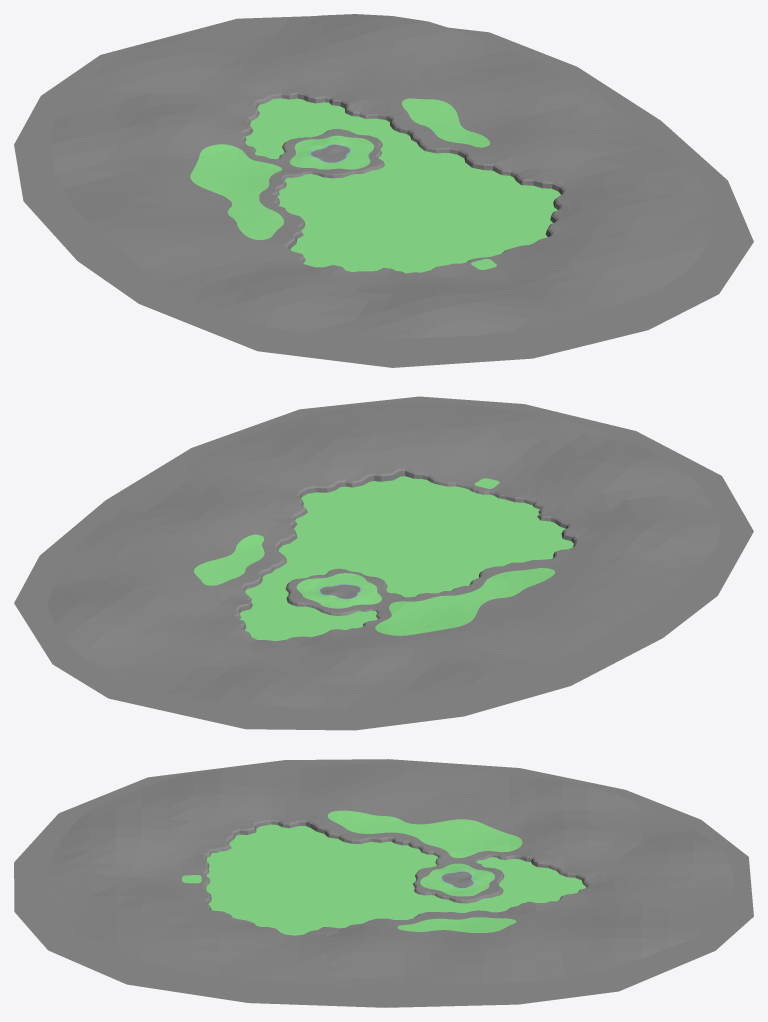
The model's file is glf_course_fc11.glb.
3 renders of one model, top to bottom at view 1: azimuth 30°, elevation 25°; view 2: azimuth 150°, elevation 25°; view 3: azimuth 270°, elevation 25°, orthographic. The views are drawn at different scales.
Visible parts, largest first — view 1: collision_0x0004, collision_0x0005, collision_0x0002, collision_0x0007, collision_0x0001, collision_0x000c; view 2: collision_0x0004, collision_0x0002, collision_0x0005, collision_0x0007, collision_0x0001, collision_0x000c; view 3: collision_0x0004, collision_0x0005, collision_0x0002, collision_0x0007, collision_0x0001, collision_0x000c.
Part boxes in pixels (box(x1,y1,x2,y2)): collision_0x0004: box(51, 14, 714, 338); collision_0x0005: box(14, 16, 753, 367); collision_0x0002: box(158, 64, 607, 289); collision_0x0007: box(245, 98, 560, 273); collision_0x0001: box(190, 98, 496, 269); collision_0x000c: box(241, 92, 565, 273); collision_0x0004: box(48, 403, 720, 709); collision_0x0002: box(150, 445, 617, 659); collision_0x0005: box(14, 396, 753, 730); collision_0x0007: box(239, 476, 573, 640); collision_0x0001: box(194, 478, 555, 635); collision_0x000c: box(234, 468, 577, 639); collision_0x0004: box(47, 763, 733, 986); collision_0x0005: box(14, 759, 753, 1007); collision_0x0002: box(144, 800, 641, 947); collision_0x0007: box(206, 824, 586, 935); collision_0x0001: box(182, 810, 522, 932); collision_0x000c: box(203, 819, 589, 934).
Size of the model in its own units: 4477 by 120 by 5630.
